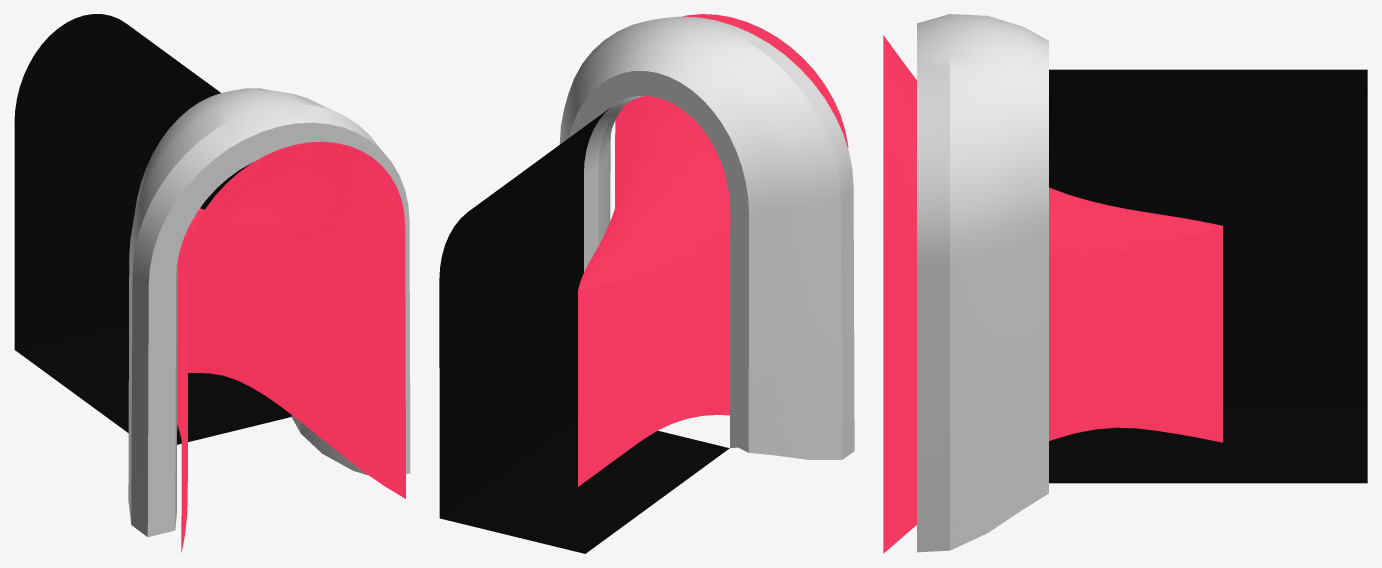
The model's file is portal.glb.
3 renders of one model, left to right at view 1: azimuth 30°, elevation 25°; view 2: azimuth 150°, elevation 25°; view 3: azimuth 270°, elevation 25°, orthographic. The views are drawn at different scales.
Parts seen in each view (by area): view 1: Torus.001, Torus.002, Torus; view 2: Torus, Torus.002, Torus.001; view 3: Torus.002, Torus, Torus.001.
Boxes of the visible parts, x1,y1,x2,y2 form: Torus.001: (177,141,405,552); Torus.002: (14,14,291,444); Torus: (128,88,410,536); Torus: (559,16,854,459); Torus.002: (439,107,729,553); Torus.001: (578,14,848,486); Torus.002: (1049,69,1367,483); Torus: (917,14,1048,552); Torus.001: (883,35,1222,553).
Bounding box in the file's own units: 6.17 × 8.79 × 8.37.
